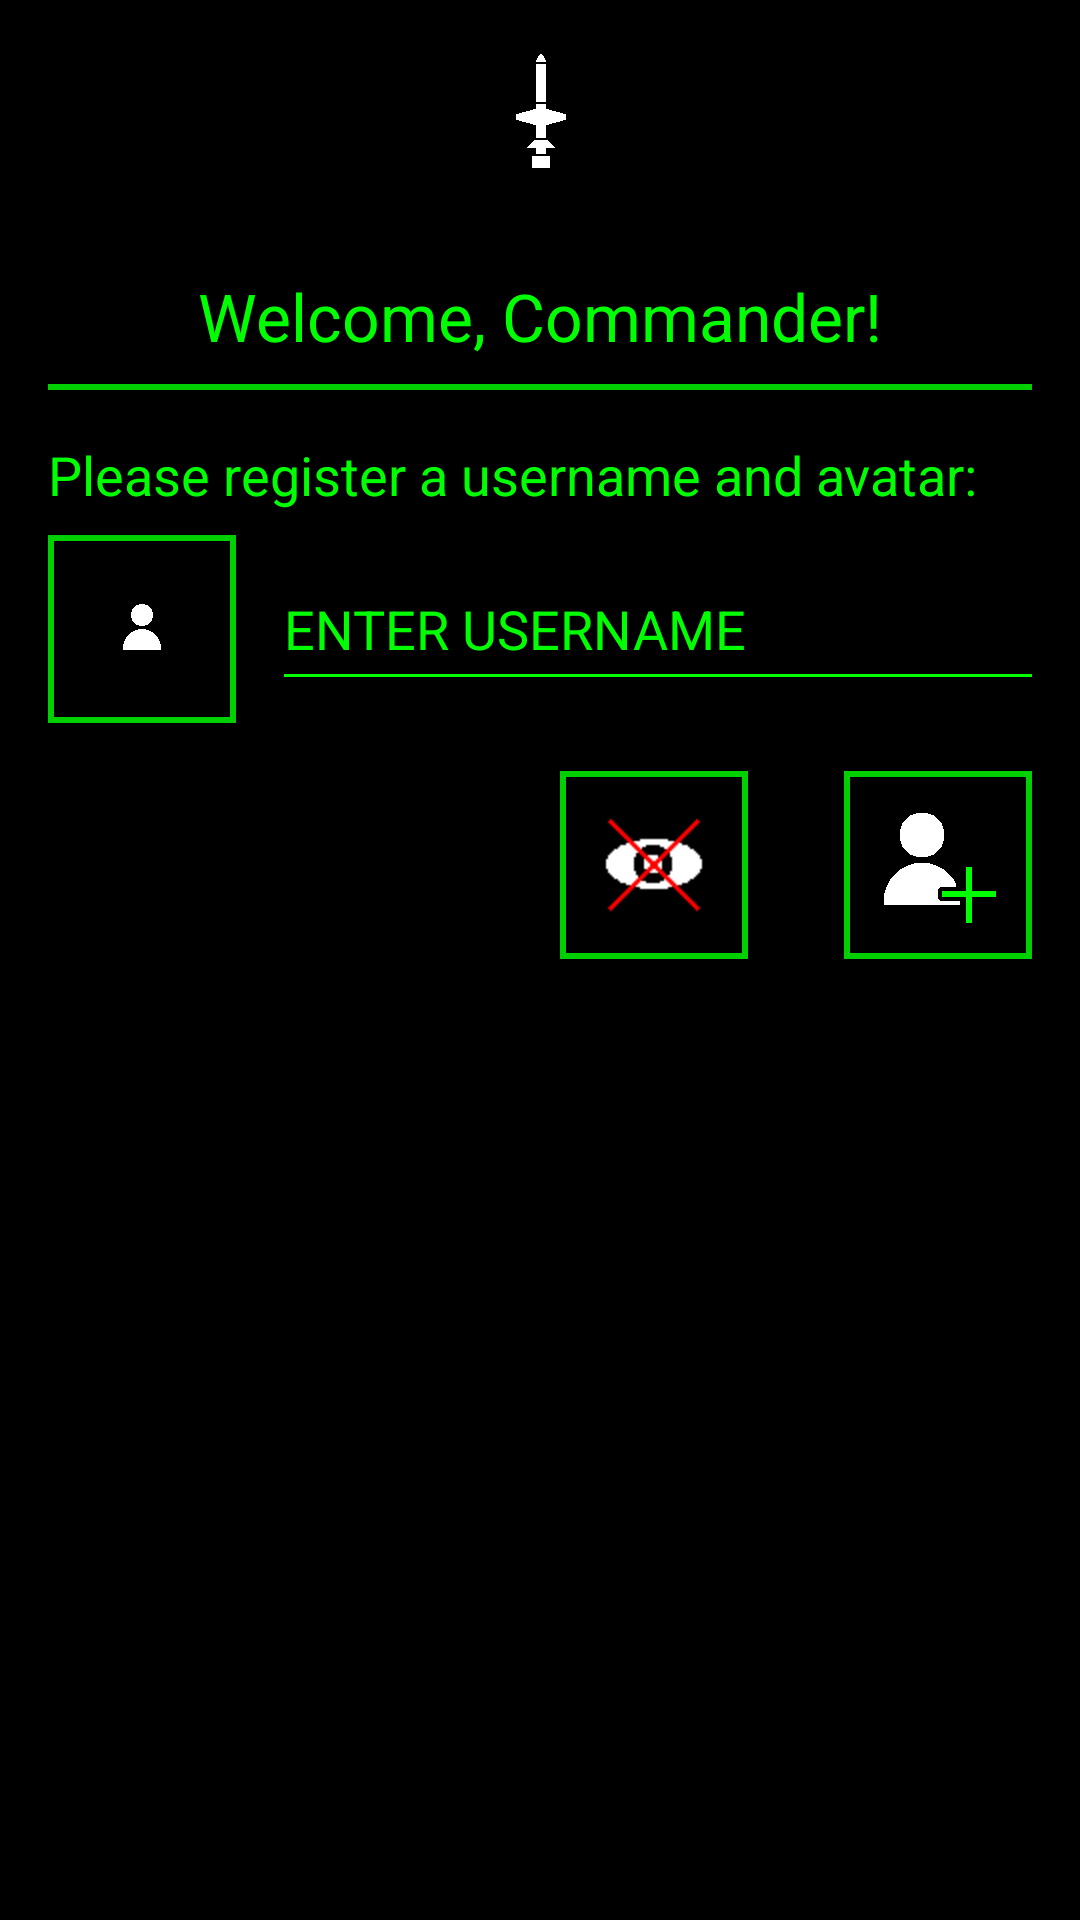

Screen size 1080×1920. Icon name, then its box in pixels as [x1, y1, x2, y2]:
marker player: [48, 535, 236, 723]
privacy: [560, 771, 748, 959]
register: [844, 771, 1032, 959]
